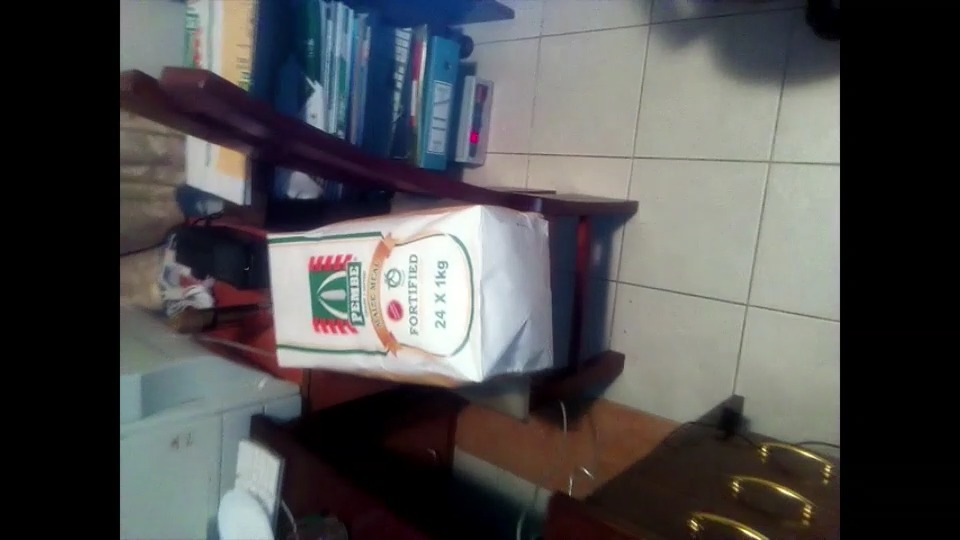maize_flour_green_label: (268, 205, 553, 381)
